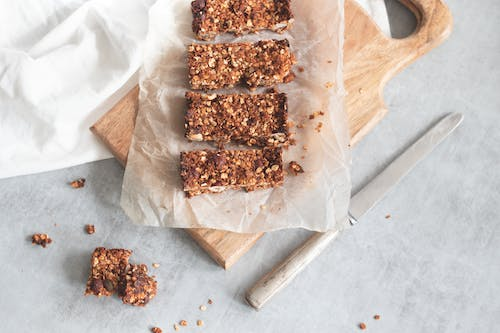knife: (240, 109, 464, 313)
